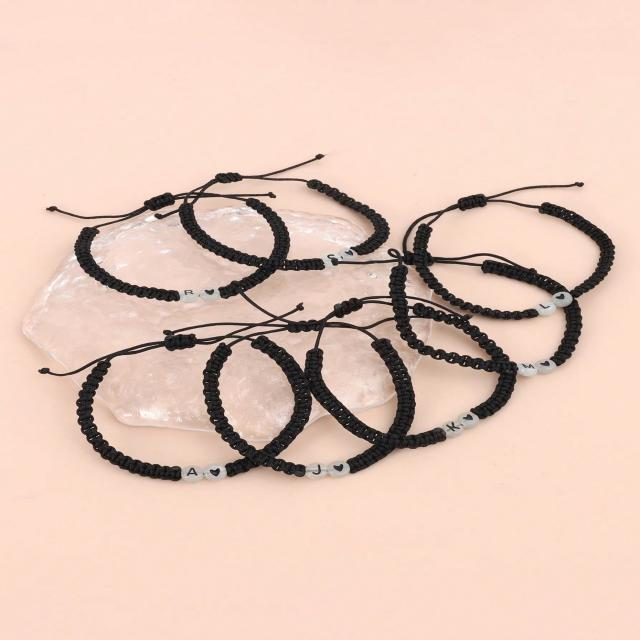bracelet: (37, 133, 640, 513)
